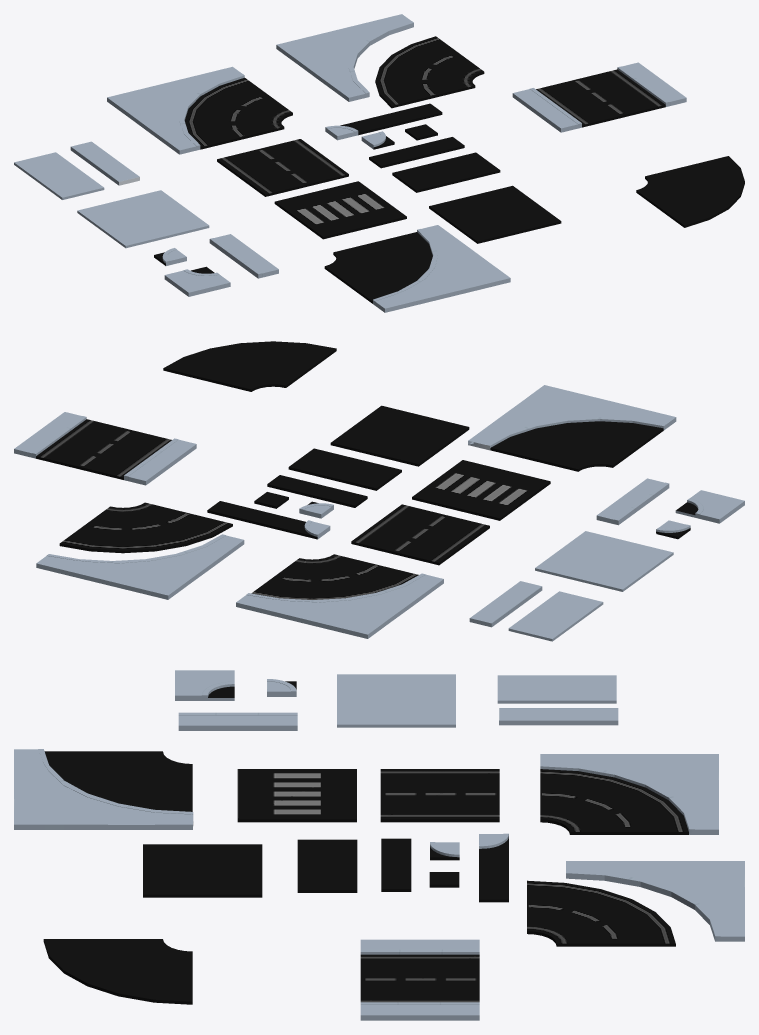
The model's file is Road_modular_package.fbx.
3 renders of one model, top to bottom at view 1: azimuth 30°, elevation 25°; view 2: azimuth 150°, elevation 25°; view 3: azimuth 270°, elevation 25°, orthographic. The views are drawn at different scales.
Visible parts, largest first — view 1: Road_Turn_Line_Big, Road_turn_corner_Big, Road_bigroad, Road_turn_corner_Big.002, Road_Turn_Line, Road_turn_corner_BIG, Road_Side_big, Road_Clean_Big, Road_CrossLine, Road_LIne, Road_Clean_1/2, Road_Side_big 1/2 (+5 smaller); view 2: Road_turn_corner_Big, Road_Turn_Line_Big, Road_bigroad, Road_turn_corner_BIG, Road_Turn_Line, Road_turn_corner_Big.002, Road_Clean_Big, Road_LIne, Road_CrossLine, Road_Side_big, Road_Clean_1/2, Road_Side_big 1/2 (+5 smaller); view 3: Road_Turn_Line_Big, Road_turn_corner_Big, Road_bigroad, Road_Turn_Line, Road_turn_corner_Big.002, Road_turn_corner_BIG, Road_Clean_Big, Road_CrossLine, Road_LIne, Road_Side_big, Road_Side_big 1/2, Road_Clean_1/2 (+5 smaller).
Part boxes in pixels (bbox=[...]): Road_Turn_Line_Big: bbox=[107, 66, 292, 154]; Road_turn_corner_Big: bbox=[324, 225, 510, 312]; Road_bigroad: bbox=[512, 62, 686, 132]; Road_turn_corner_Big.002: bbox=[636, 156, 744, 227]; Road_Turn_Line: bbox=[375, 36, 484, 108]; Road_turn_corner_BIG: bbox=[276, 14, 413, 101]; Road_Side_big: bbox=[77, 190, 209, 248]; Road_Clean_Big: bbox=[429, 185, 561, 243]; Road_CrossLine: bbox=[274, 181, 406, 239]; Road_LIne: bbox=[217, 139, 348, 196]; Road_Clean_1/2: bbox=[392, 152, 500, 192]; Road_Side_big 1/2: bbox=[14, 152, 104, 199]; Road_turn_corner_Big: bbox=[468, 385, 676, 471]; Road_Turn_Line_Big: bbox=[236, 554, 443, 638]; Road_bigroad: bbox=[14, 412, 196, 485]; Road_turn_corner_BIG: bbox=[36, 534, 244, 599]; Road_Turn_Line: bbox=[59, 502, 232, 553]; Road_turn_corner_Big.002: bbox=[163, 341, 336, 391]; Road_Clean_Big: bbox=[330, 405, 469, 466]; Road_LIne: bbox=[351, 504, 489, 565]; Road_CrossLine: bbox=[412, 460, 550, 520]; Road_Side_big: bbox=[535, 531, 673, 591]; Road_Clean_1/2: bbox=[288, 448, 401, 490]; Road_Side_big 1/2: bbox=[508, 591, 603, 641]; Road_Turn_Line_Big: bbox=[540, 754, 718, 834]; Road_turn_corner_Big: bbox=[14, 749, 193, 829]; Road_bigroad: bbox=[360, 939, 479, 1020]; Road_Turn_Line: bbox=[527, 880, 675, 946]; Road_turn_corner_Big.002: bbox=[43, 939, 192, 1004]; Road_turn_corner_BIG: bbox=[566, 861, 744, 941]; Road_Clean_Big: bbox=[143, 844, 262, 897]; Road_CrossLine: bbox=[237, 769, 356, 822]; Road_LIne: bbox=[380, 769, 499, 822]; Road_Side_big: bbox=[337, 674, 455, 727]; Road_Side_big 1/2: bbox=[497, 675, 616, 703]; Road_Clean_1/2: bbox=[297, 839, 357, 892].
Bounding box in the file's own units: 13687 × 238 × 12262.
